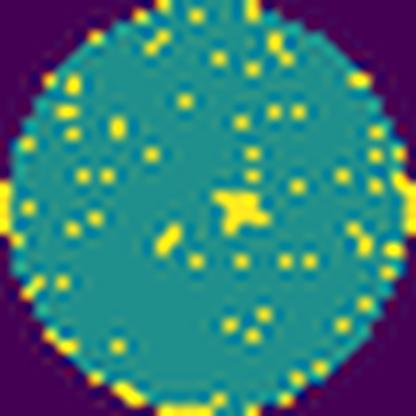Center: (210, 181, 279, 241)
